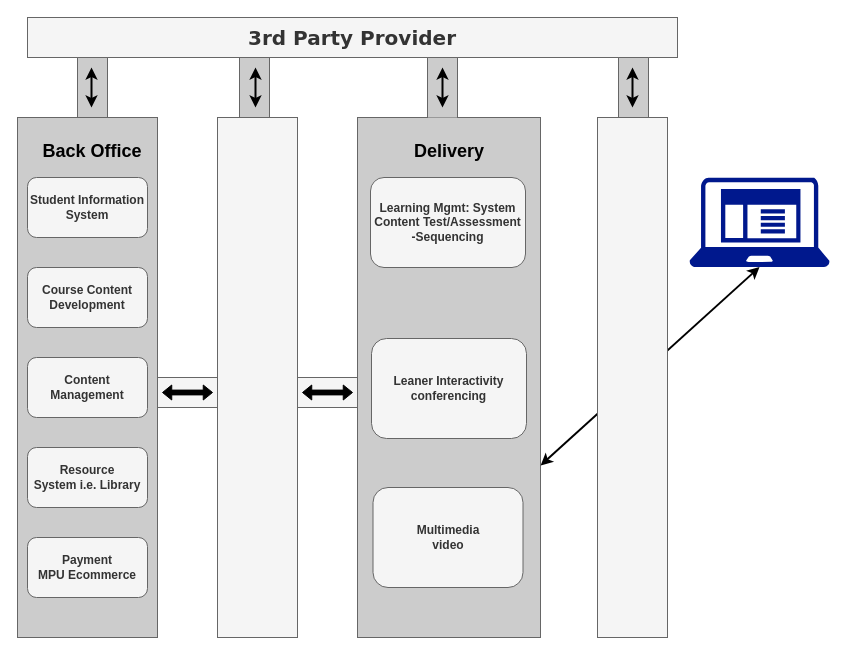
Image size: 847x655. Some labels were removed from this diagram. Here are the shapes that lost their labels. From the top down, the centre of each, then its label:
At point (257, 377): "I N T E G R A T I O N".
At point (632, 377): "P O R T A L".
